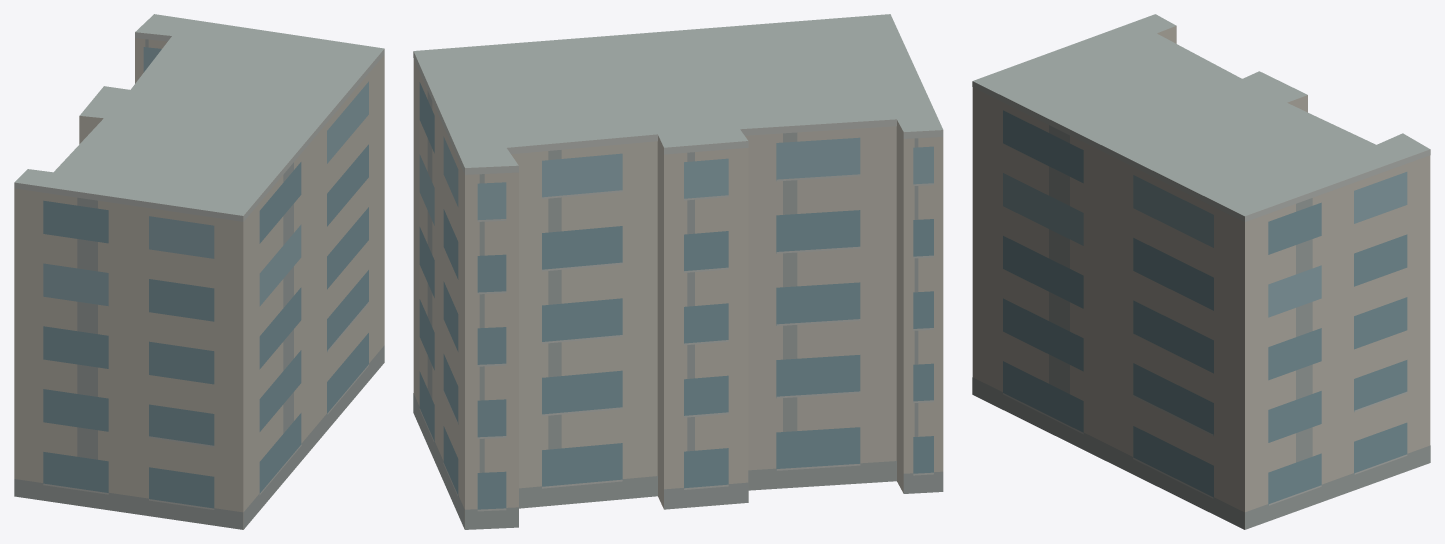
File: survey-upis-32626339.glb
3 views of the same model, side by side, from view 1: azimuth 30°, elevation 25°; view 2: azimuth 150°, elevation 25°; view 3: azimuth 270°, elevation 25° (orthographic). The views are drawn at different scales.
Parts seen in each view (by area): view 1: survey-upis-32626339.tmp; view 2: survey-upis-32626339.tmp; view 3: survey-upis-32626339.tmp.
Part boxes in pixels (box(x1,y1,x2,y2)): survey-upis-32626339.tmp: box(14, 14, 384, 529); survey-upis-32626339.tmp: box(413, 14, 943, 529); survey-upis-32626339.tmp: box(972, 14, 1430, 529).
Bounding box in the file's own units: 17.86 × 12.9 × 17.08.
